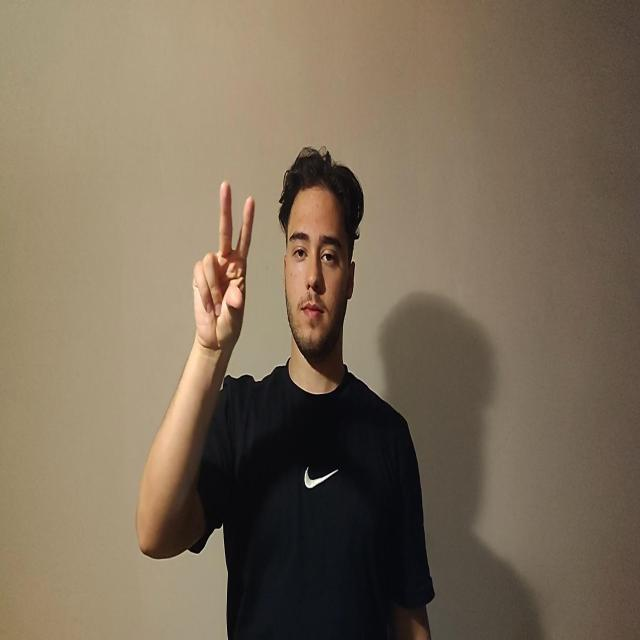no: (192, 180, 255, 354)
